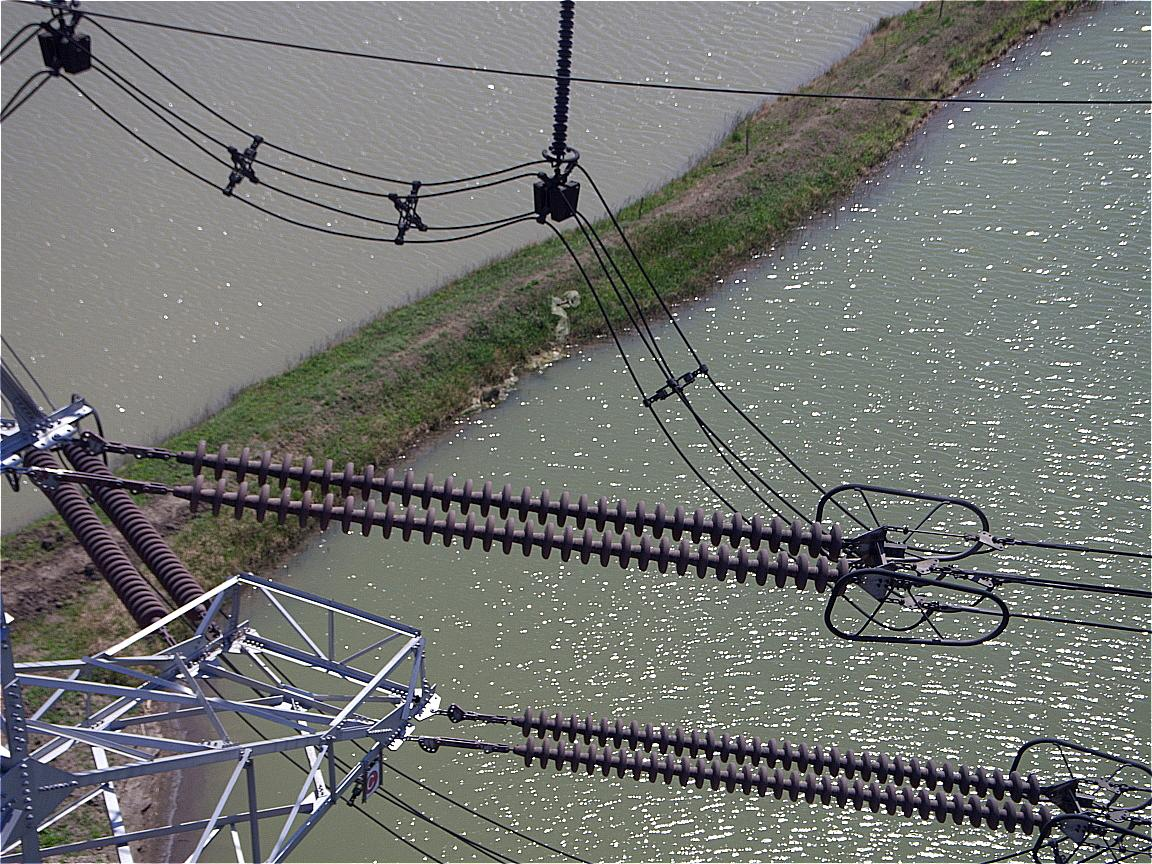insultor1: (189, 440, 851, 595), (520, 706, 1052, 836), (29, 445, 211, 629)
